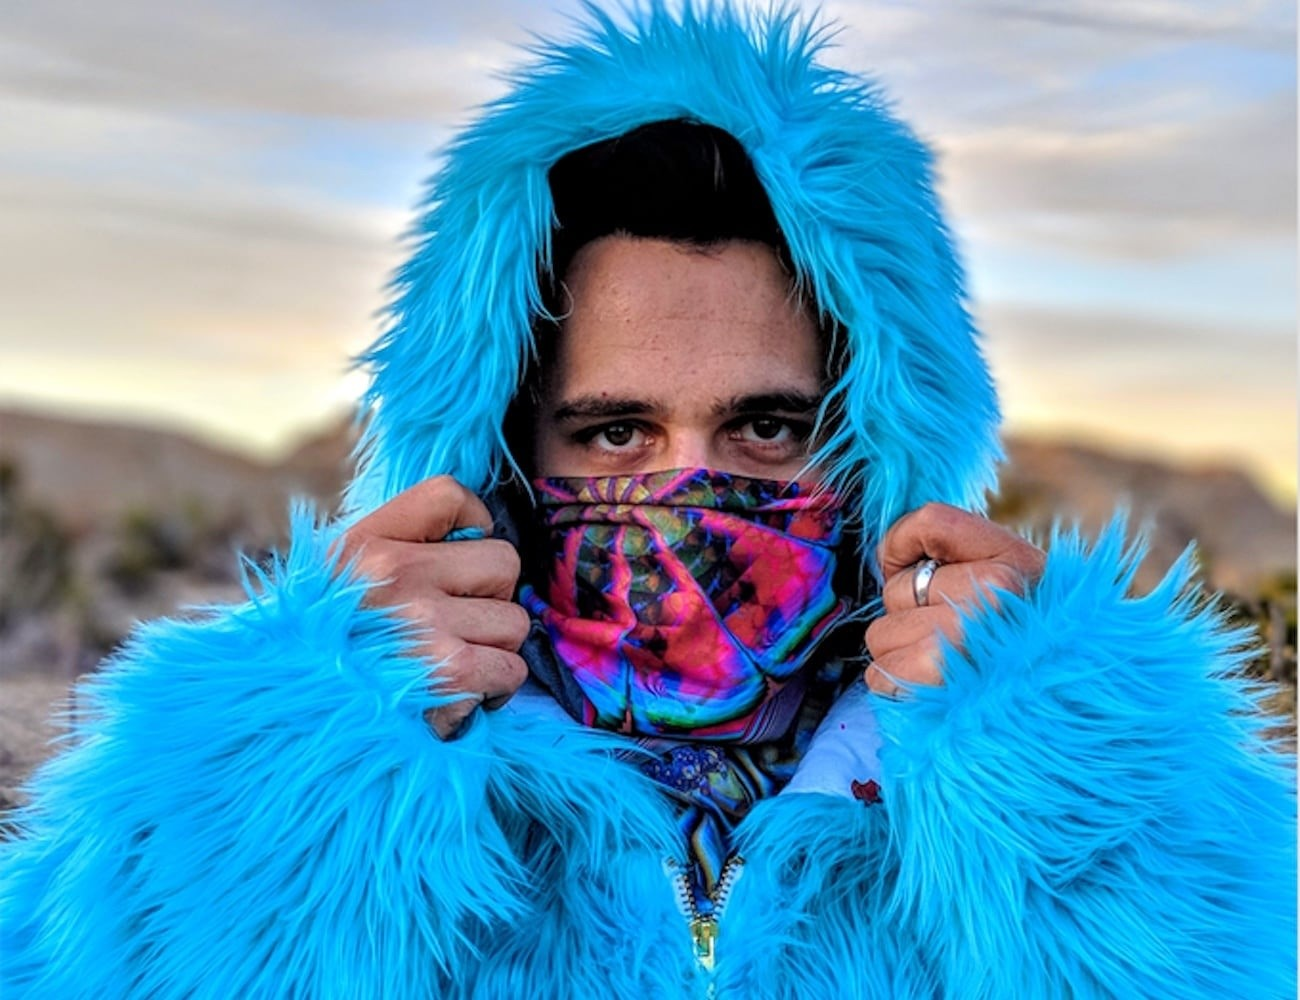face_with_mask: (472, 153, 879, 731)
